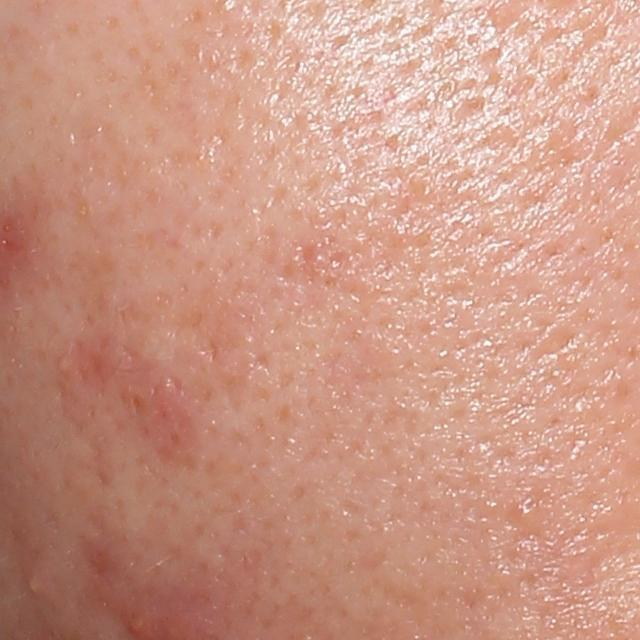comedo: (510, 496, 538, 525)
